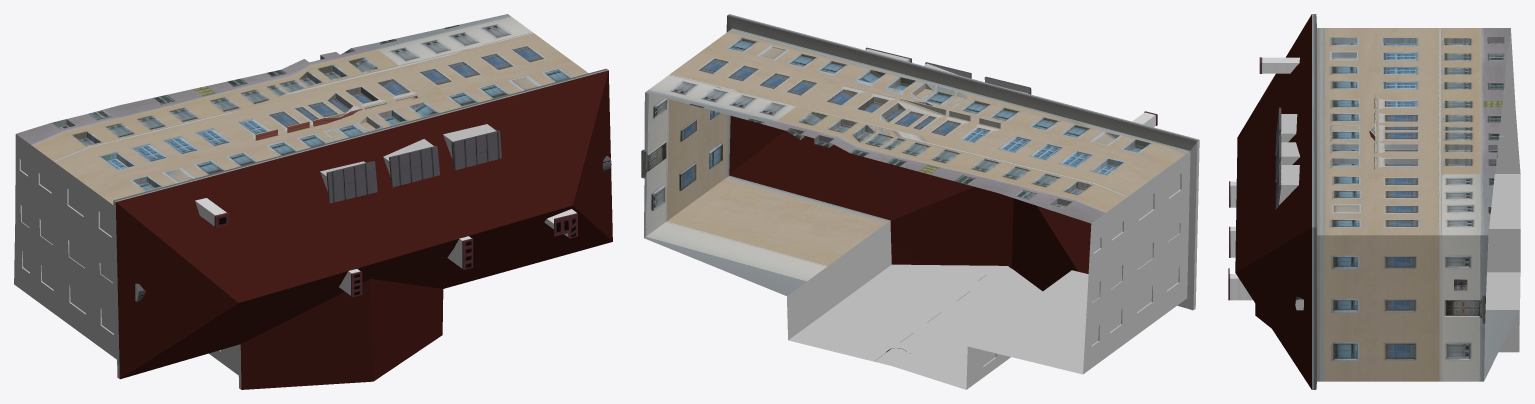
The model's file is Toom-Kooli_11-origo.obj.
3 renders of one model, left to right at view 1: azimuth 30°, elevation 25°; view 2: azimuth 150°, elevation 25°; view 3: azimuth 270°, elevation 25°, orthographic. The views are drawn at different scales.
Parts seen in each view (by area): view 1: Toom_Kooli_11; view 2: Toom_Kooli_11; view 3: Toom_Kooli_11.
Boxes of the visible parts, bbox=[...] form: Toom_Kooli_11: bbox=[14, 14, 612, 389]; Toom_Kooli_11: bbox=[641, 14, 1199, 389]; Toom_Kooli_11: bbox=[1228, 14, 1520, 389].
Bounding box in the file's own units: 45.25 × 20 × 24.72.
